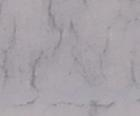fissura: (1, 0, 136, 108)
